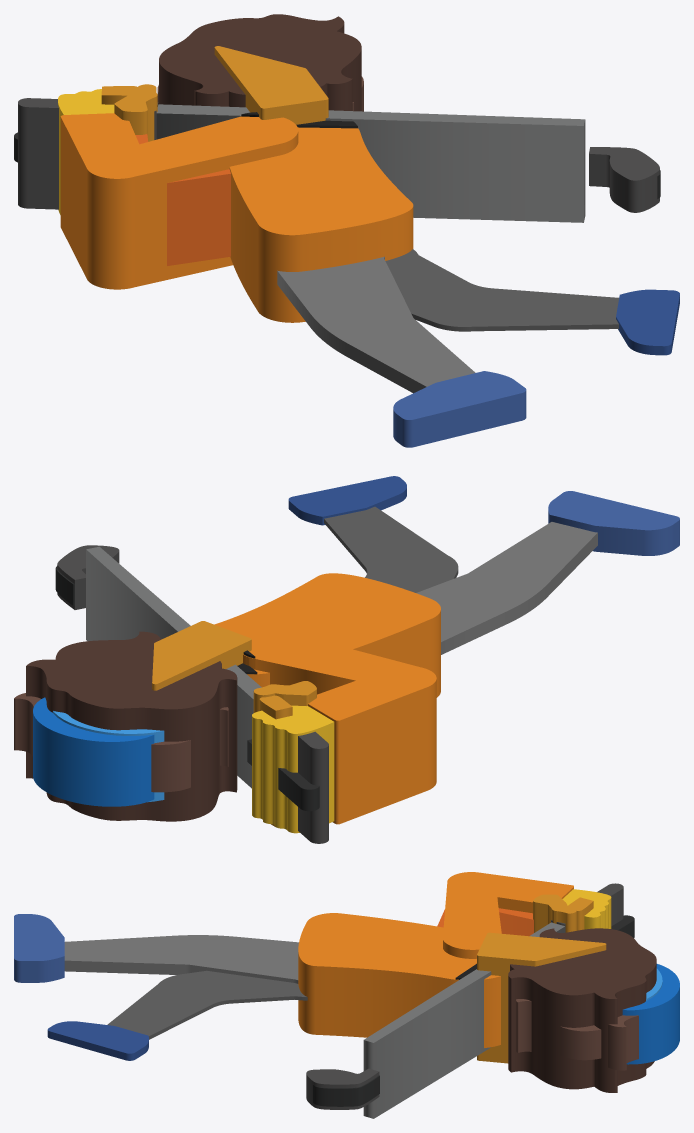
The model's file is emoji_u1f3cc.glb.
3 views of the same model, one above another, from view 1: azimuth 30°, elevation 25°; view 2: azimuth 150°, elevation 25°; view 3: azimuth 270°, elevation 25° (orthographic). The views are drawn at different scales.
Visible parts, largest first — view 1: emoji_u1f3cc; view 2: emoji_u1f3cc; view 3: emoji_u1f3cc.
Part boxes in pixels (x1=…): emoji_u1f3cc: x1=14, y1=14, x2=679, y2=447; emoji_u1f3cc: x1=14, y1=476, x2=679, y2=843; emoji_u1f3cc: x1=14, y1=872, x2=679, y2=1118.
Size of the model in its own units: 0.0216 by 0.0058 by 0.0334.
